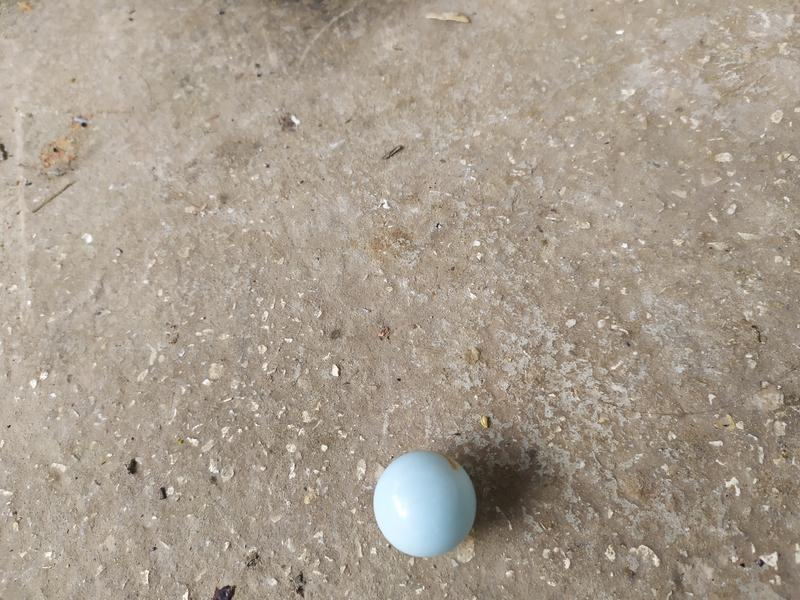Warning: (371, 447, 480, 561)
